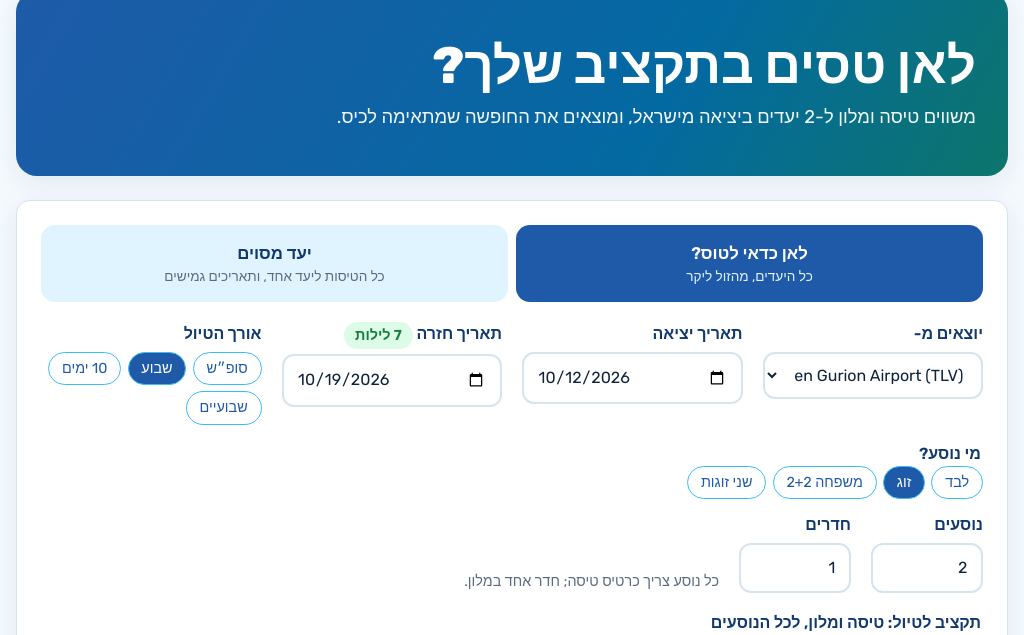
Scenario: missing data is told apart from an empty result because of the budget
Type "2026-11-07" into the date field labelled "תאריך יציאה" at (632, 378), box left=522, top=352, right=742, bottom=404
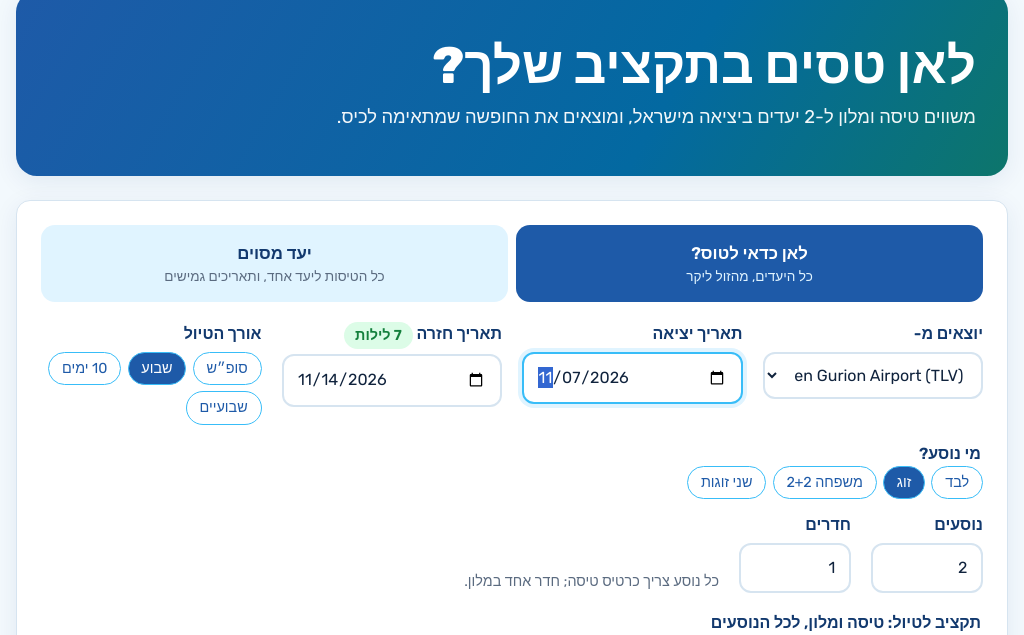
Clear the date field labelled "תאריך חזרה 7 לילות" at (392, 380), box left=282, top=354, right=502, bottom=407
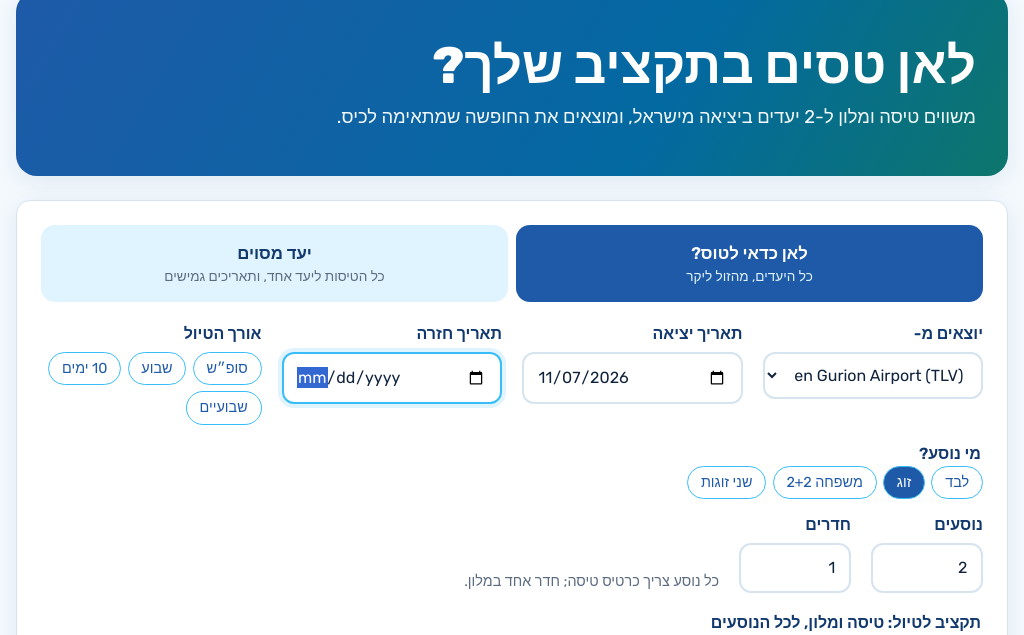
Type "2026-11-14" into the date field labelled "תאריך חזרה" at (392, 378), box left=282, top=352, right=502, bottom=404
(page scrolled)
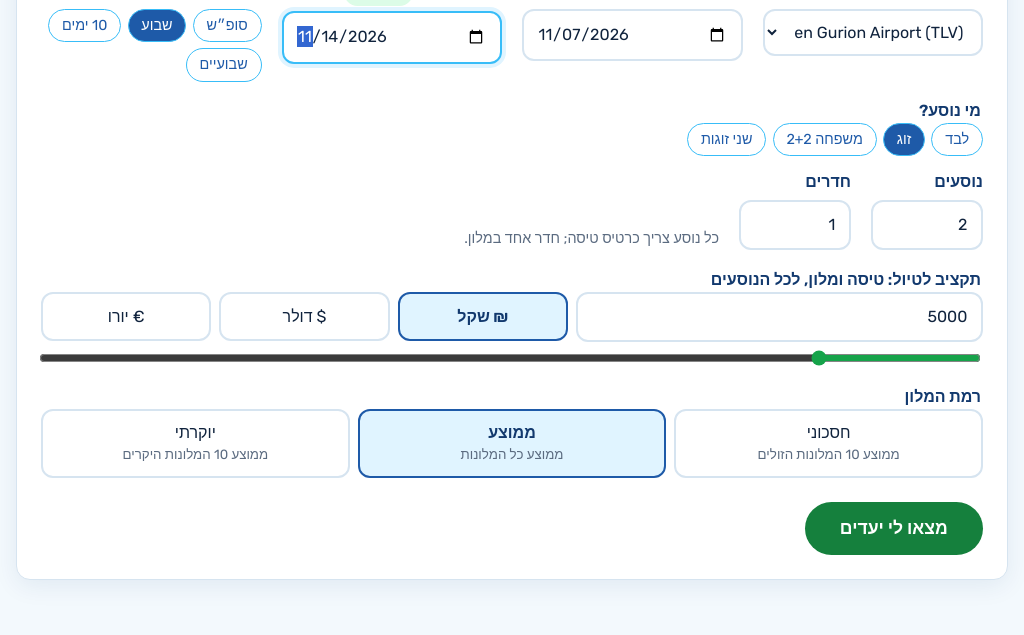
Replace the text in the number field named "תקציב" with "8000" at (780, 317), box left=576, top=292, right=983, bottom=342
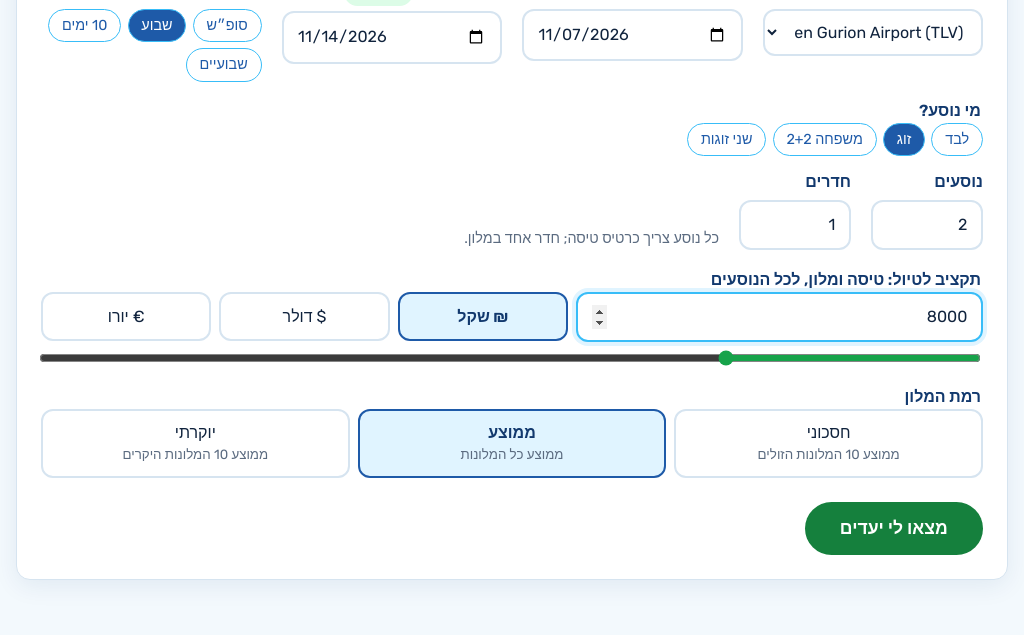
Click the button "מצאו לי יעדים" at (894, 529), box left=805, top=502, right=983, bottom=556
(page scrolled)
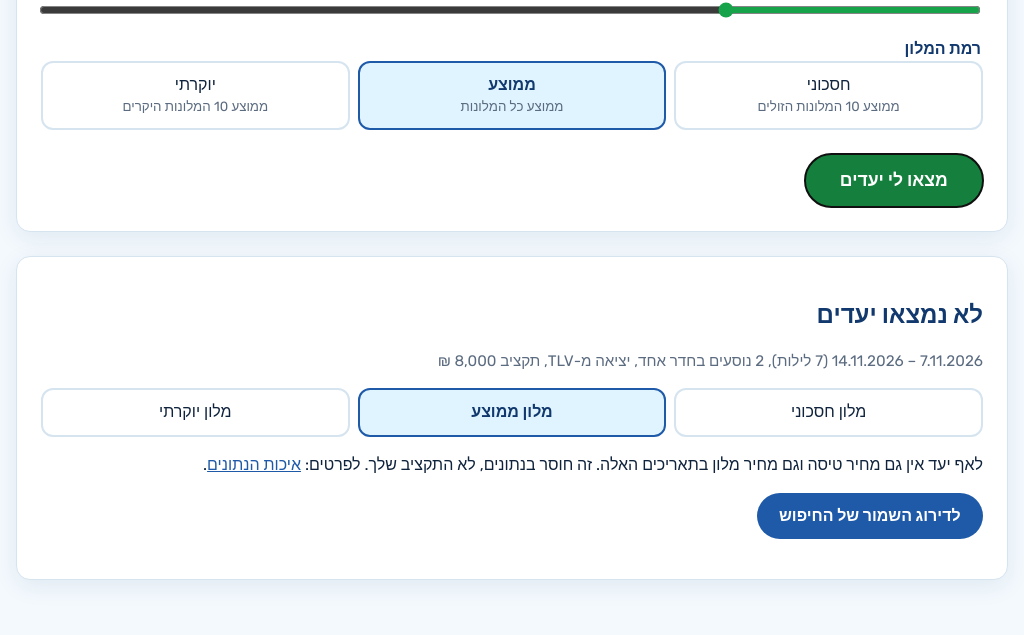
Check: the text "זה חוסר בנתונים, לא התקציב שלך" is shown, box left=305, top=455, right=983, bottom=474
